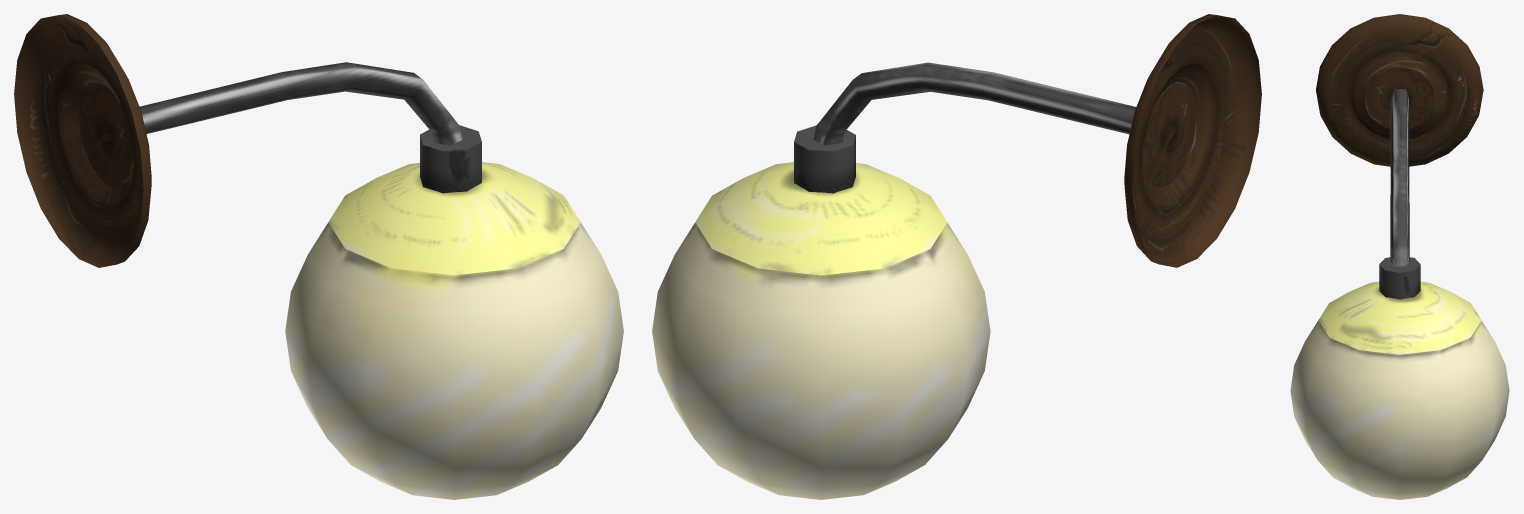
File: lamp_walls.fbx
The picture shows the model from 3 angles, left to right: view 1: azimuth 30°, elevation 25°; view 2: azimuth 150°, elevation 25°; view 3: azimuth 270°, elevation 25°; orthographic projection. The views are drawn at different scales.
Parts seen in each view (by area): view 1: polySurface1767, polySurface1769; view 2: polySurface1767, polySurface1769; view 3: polySurface1769, polySurface1767.
Boxes of the visible parts, box(x1,y1,x2,y2) form: polySurface1767: box(285, 222, 623, 499); polySurface1769: box(14, 14, 580, 275); polySurface1767: box(652, 222, 990, 499); polySurface1769: box(695, 14, 1261, 275); polySurface1769: box(1316, 14, 1483, 354); polySurface1767: box(1290, 320, 1509, 499).
Bounding box in the file's own units: 48.13 × 48.64 × 27.02.
